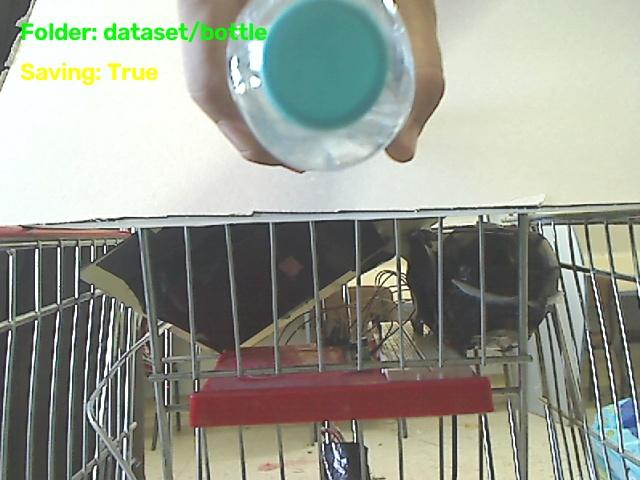Bottle: (227, 0, 414, 170)
